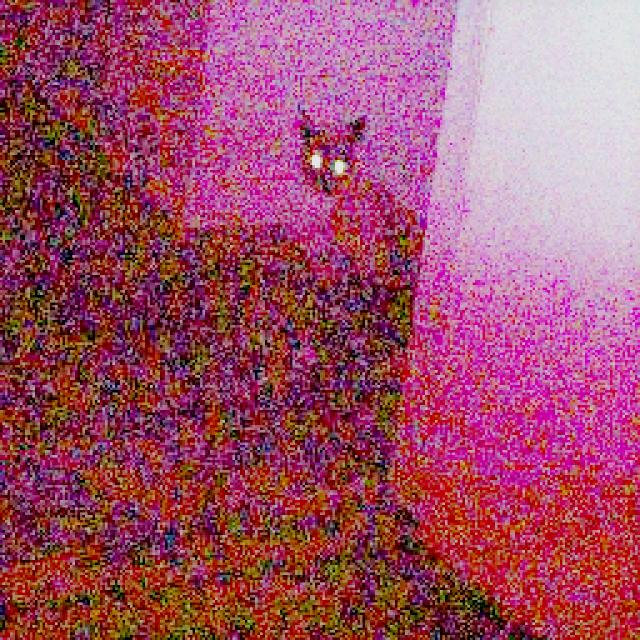cat: (292, 106, 409, 320)
